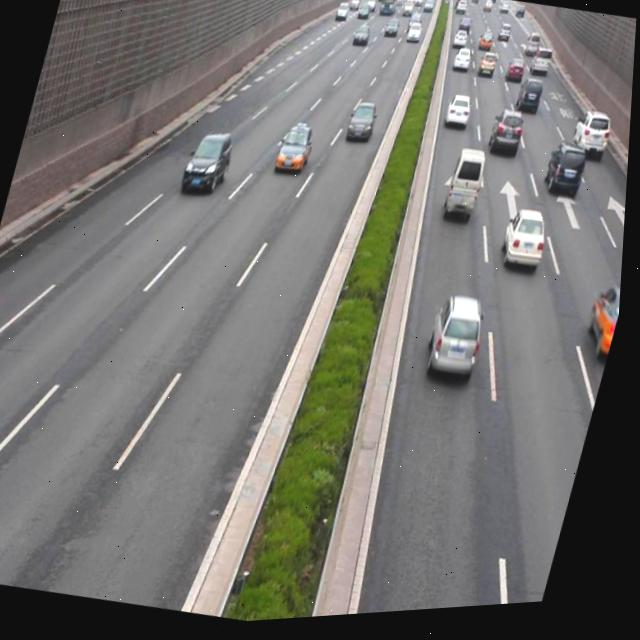car: (424, 298, 494, 391), (496, 211, 554, 286), (581, 282, 625, 370), (181, 131, 237, 198), (540, 145, 589, 208), (568, 116, 615, 169), (275, 122, 317, 179), (487, 110, 529, 165), (347, 101, 379, 147)
truck: (441, 151, 491, 230)
